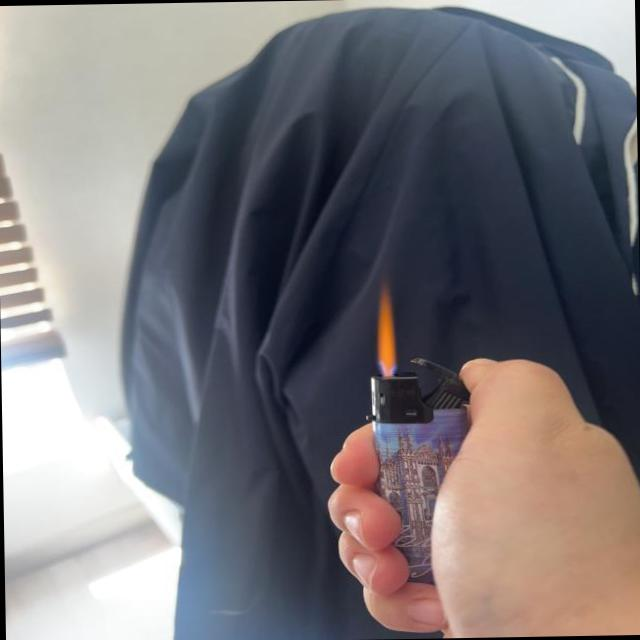Fire: (371, 286, 399, 370)
